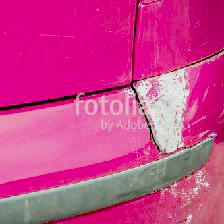bumper_scratch: (124, 81, 203, 213)
